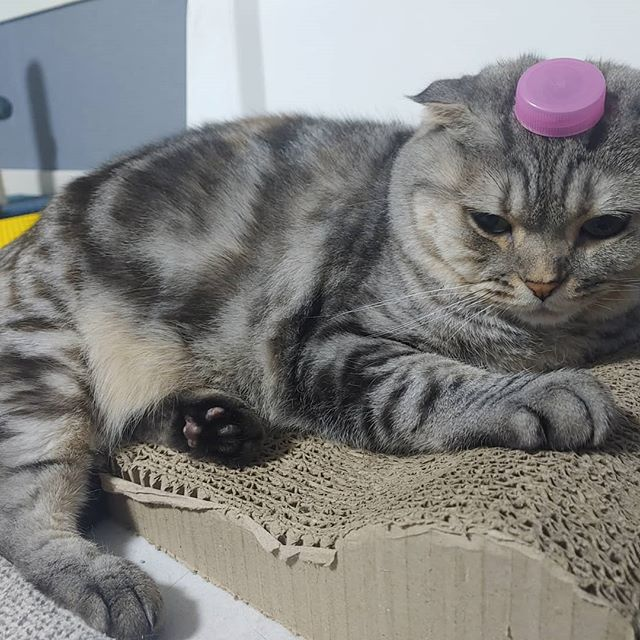cat: (362, 54, 640, 331)
